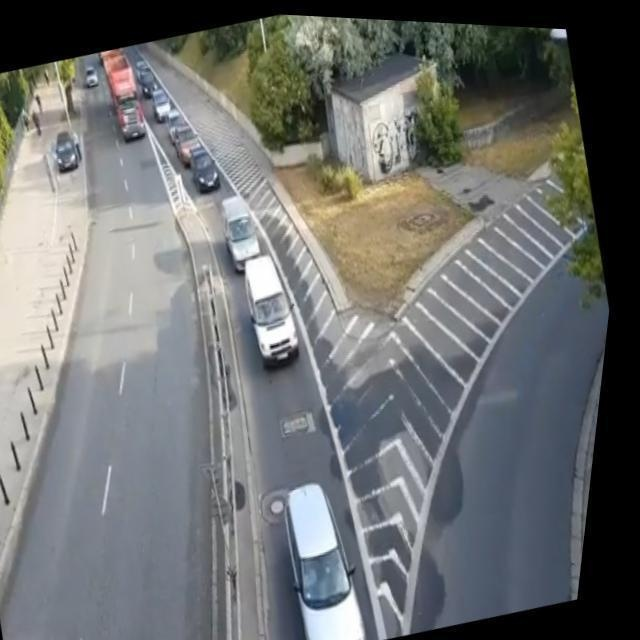Car: (271, 457, 403, 640), (233, 238, 325, 376), (217, 195, 270, 278), (184, 146, 224, 204), (49, 127, 85, 179), (168, 125, 206, 163), (147, 86, 180, 125), (128, 54, 160, 90), (76, 62, 100, 96)
Truck: (98, 46, 152, 146)
